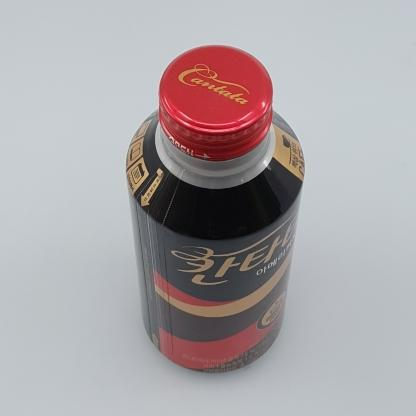--B_F---------: (126, 45, 305, 373)
